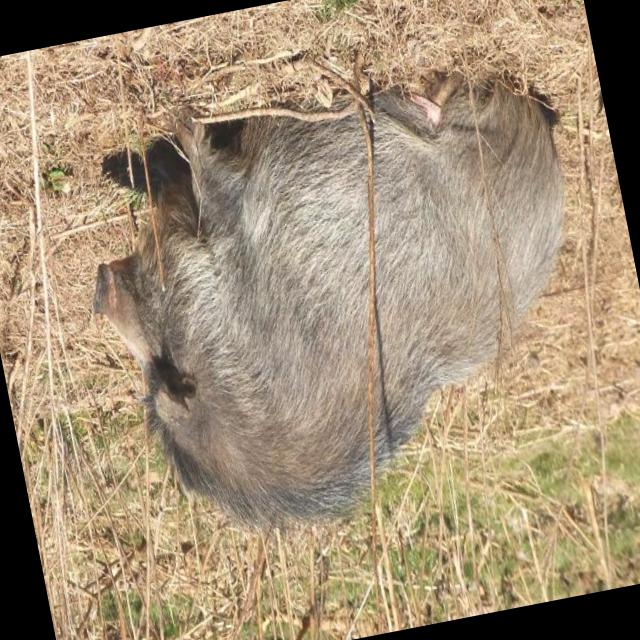pig: (96, 117, 369, 529), (373, 89, 499, 469), (477, 85, 563, 317)
